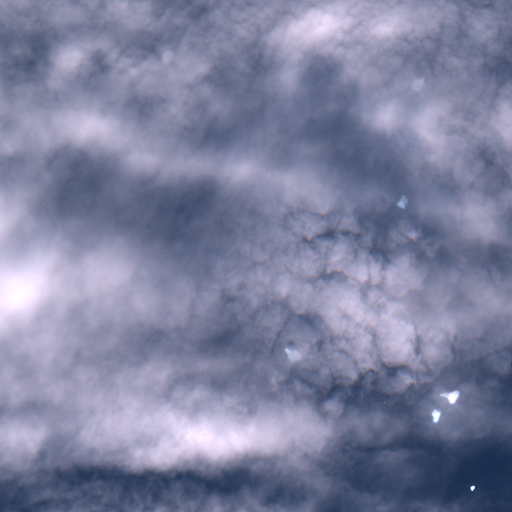Iceberg: (439, 389, 459, 403), (284, 348, 301, 361), (412, 77, 424, 91), (396, 195, 408, 209), (431, 409, 441, 422), (469, 485, 475, 491), (383, 402, 385, 403)
